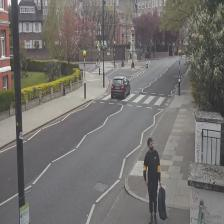person: (143, 138, 161, 223)
